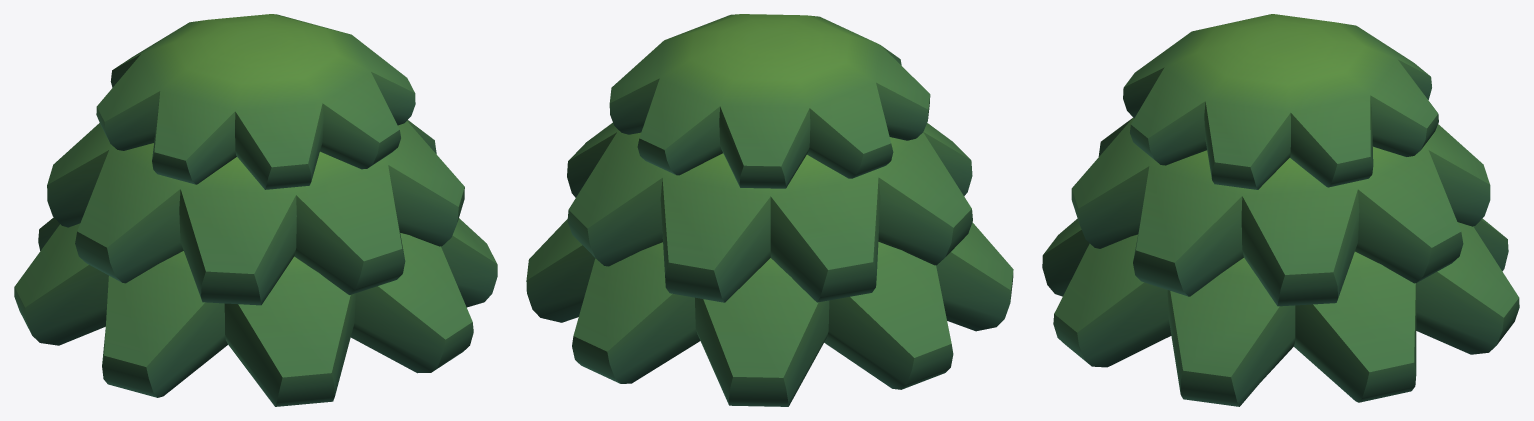
The model's file is Bush-3.fbx.
3 renders of one model, left to right at view 1: azimuth 30°, elevation 25°; view 2: azimuth 150°, elevation 25°; view 3: azimuth 270°, elevation 25°, orthographic.
Visible parts, largest first — view 1: Bush-3; view 2: Bush-3; view 3: Bush-3.
Boxes of the visible parts, x1,y1,x2,y2 form: Bush-3: [14, 14, 497, 406]; Bush-3: [526, 14, 1013, 406]; Bush-3: [1042, 14, 1519, 406].
Bounding box in the file's own units: 378 × 243 × 378.
